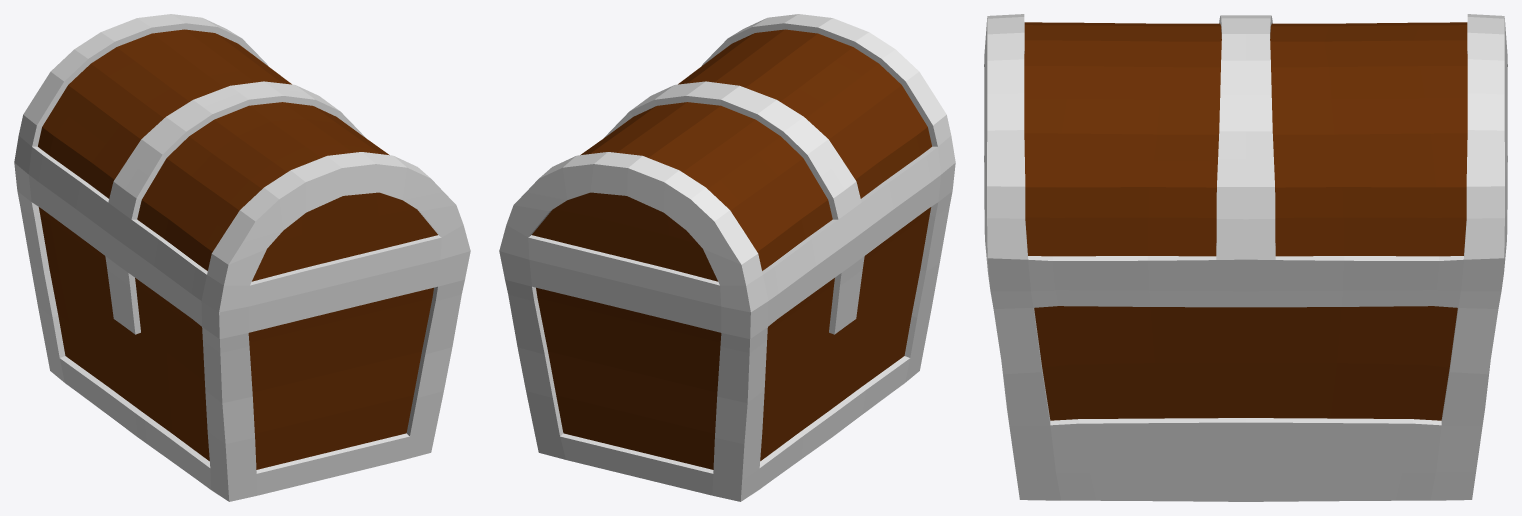
File: Wooden Chest, colored.fbx
The picture shows the model from 3 angles, left to right: view 1: azimuth 30°, elevation 25°; view 2: azimuth 150°, elevation 25°; view 3: azimuth 270°, elevation 25°; orthographic projection. The views are drawn at different scales.
Parts seen in each view (by area): view 1: Cube; view 2: Cube; view 3: Cube.
Boxes of the visible parts, box(x1,y1,x2,y2) form: Cube: box(14, 14, 470, 501); Cube: box(499, 14, 955, 501); Cube: box(984, 14, 1507, 501).
Size of the model in its own units: 169 by 204 by 239.
